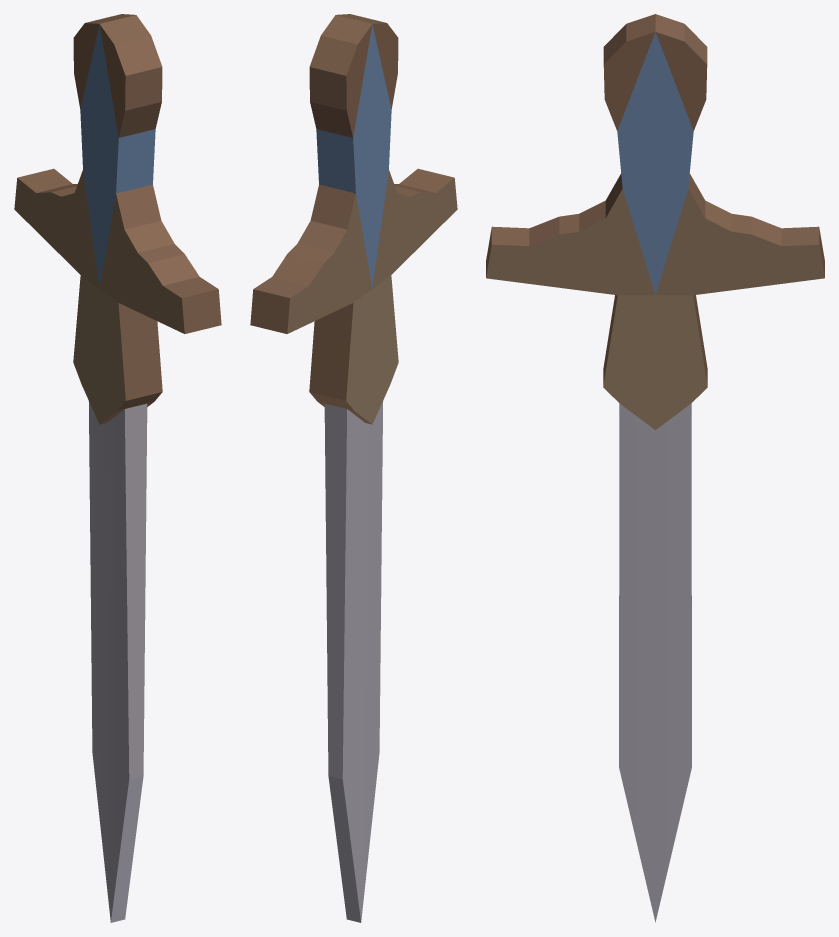
File: sword.glb
The picture shows the model from 3 angles, left to right: view 1: azimuth 30°, elevation 25°; view 2: azimuth 150°, elevation 25°; view 3: azimuth 270°, elevation 25°; orthographic projection.
Visible parts, largest first — view 1: Sword.001; view 2: Sword.001; view 3: Sword.001.
Part boxes in pixels (x1,y1,x2,y2): Sword.001: (14,14,221,922); Sword.001: (250,14,457,922); Sword.001: (486,14,824,922).
Size of the model in its own units: 0.056 by 1.31 by 0.4477.
